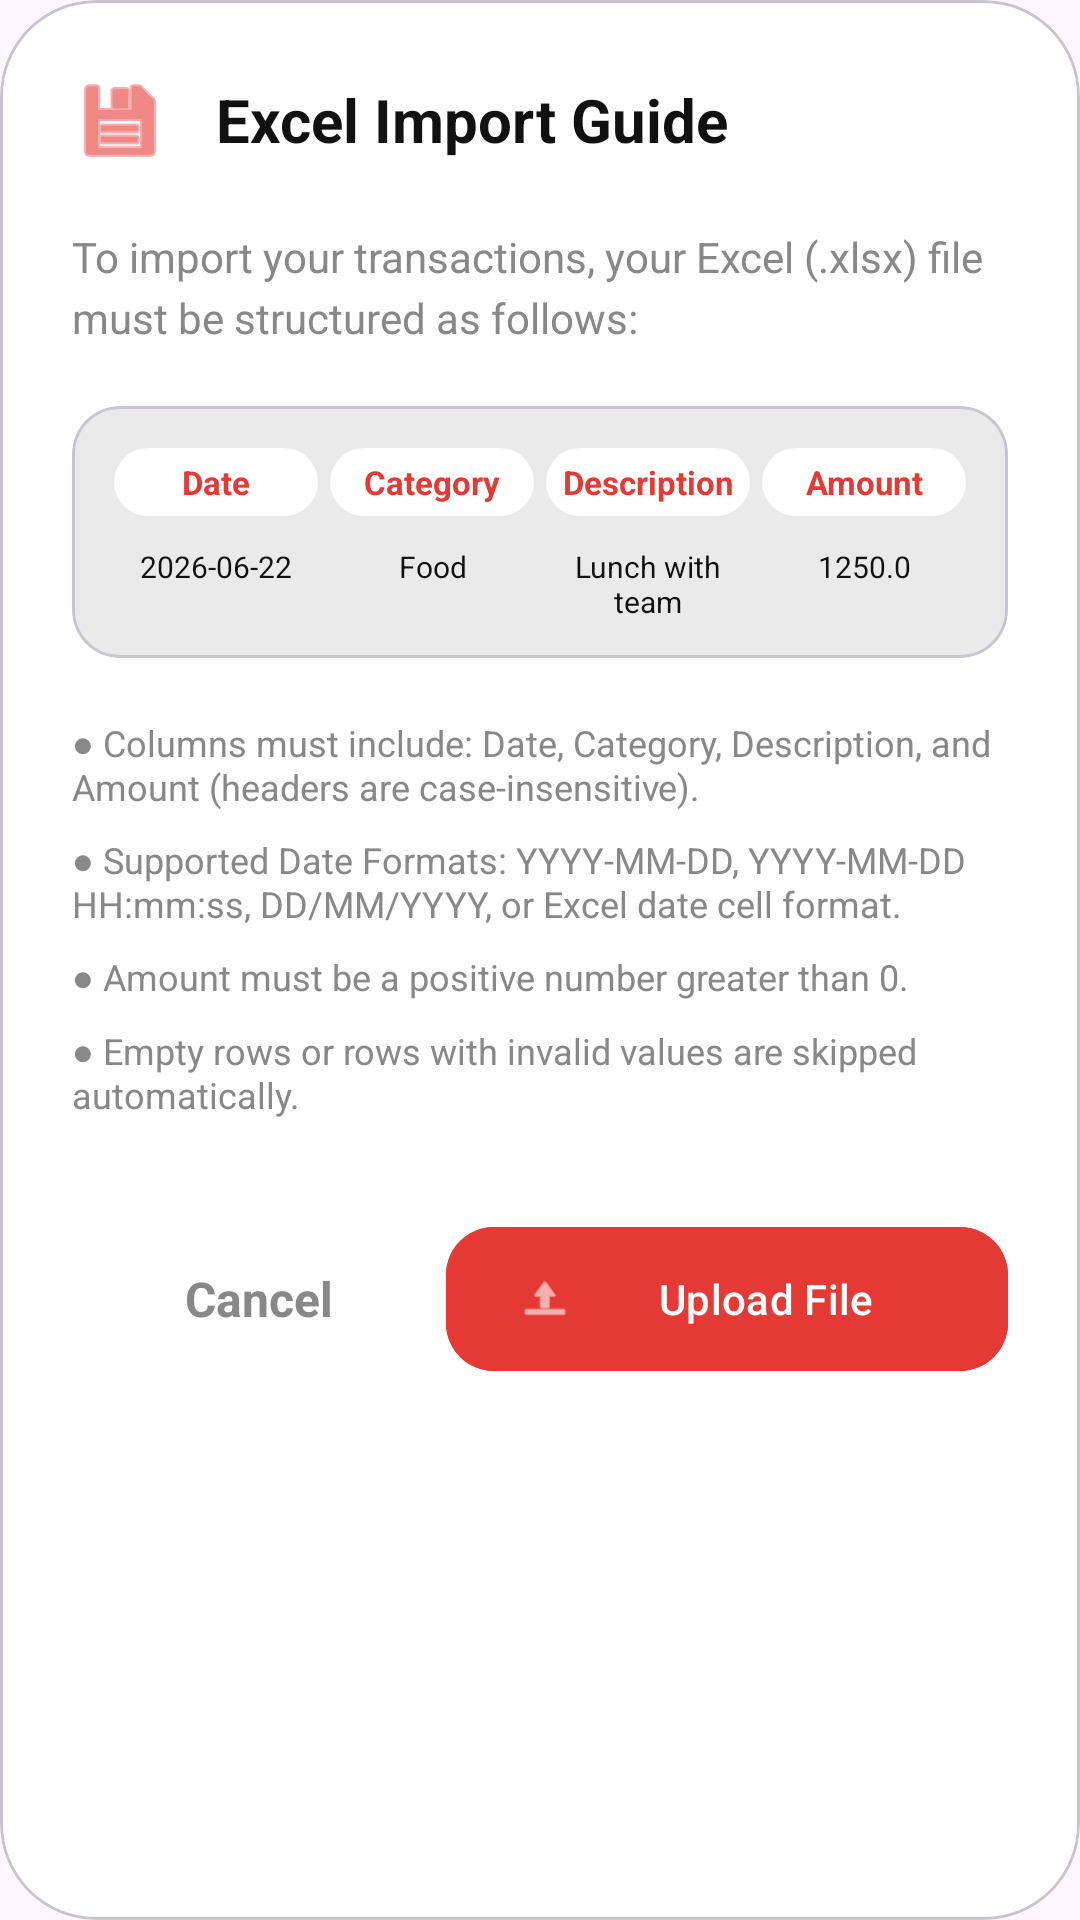

Point at icon controls on the screen. Image size 1080w x 1920h, points as (x=x, y=y).
save: (x=120, y=120)
